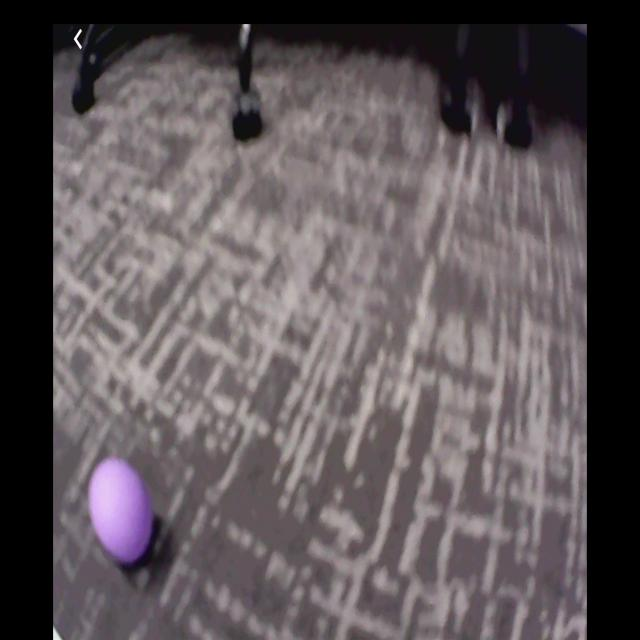ball: (88, 456, 155, 567)
